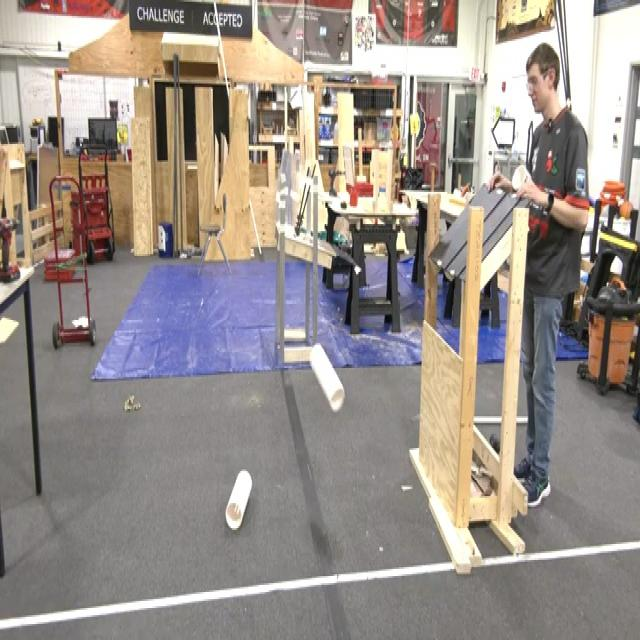Coral: (308, 340, 345, 412), (224, 466, 252, 530)
